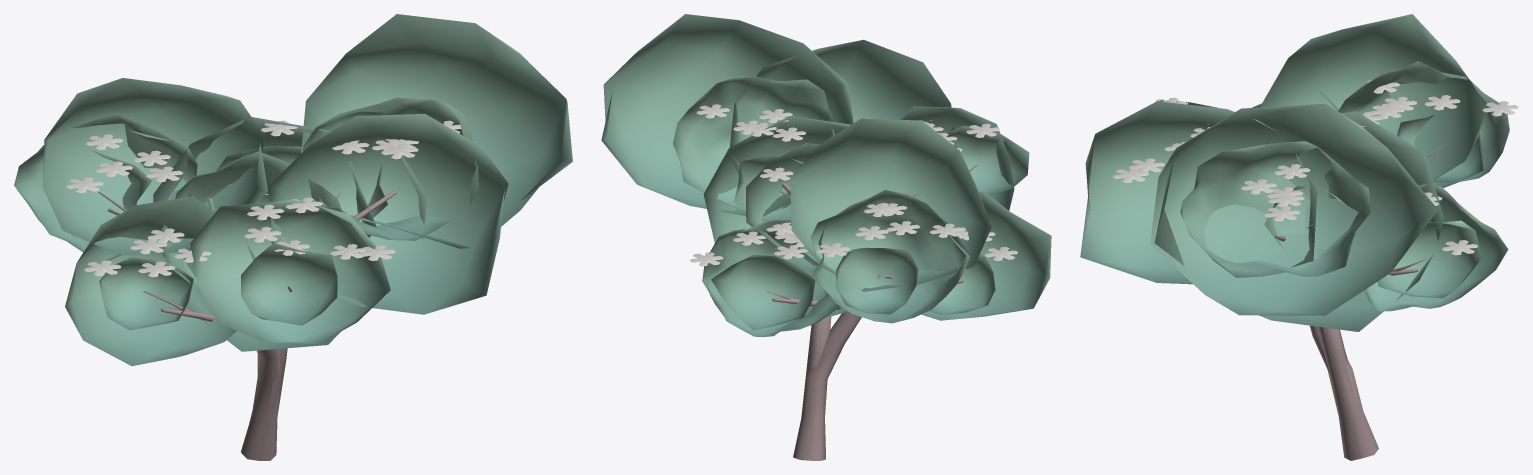
File: elder.glb
3 renders of one model, left to right at view 1: azimuth 30°, elevation 25°; view 2: azimuth 150°, elevation 25°; view 3: azimuth 270°, elevation 25°, orthographic. The views are drawn at different scales.
Parts seen in each view (by area): view 1: far, near; view 2: near, far; view 3: far, near.
Part boxes in pixels (x1=…): far: x1=42, y1=14, x2=572, y2=445; near: x1=14, y1=97, x2=478, y2=460; near: x1=673, y1=76, x2=1051, y2=460; far: x1=601, y1=14, x2=991, y2=429; far: x1=1080, y1=14, x2=1486, y2=424; near: x1=1113, y1=61, x2=1518, y2=460.
Bounding box in the file's own units: 5.93 × 4.78 × 4.67.
